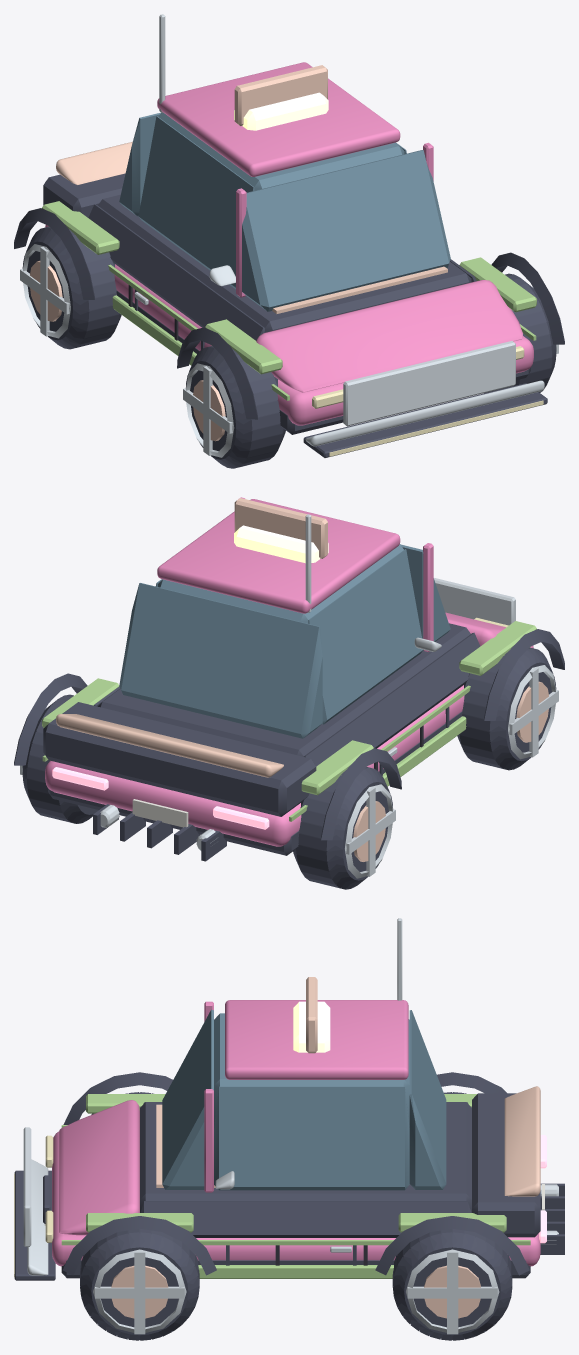
Rendered from neon_delivery.fbx.
3 renders of one model, top to bottom at view 1: azimuth 30°, elevation 25°; view 2: azimuth 150°, elevation 25°; view 3: azimuth 270°, elevation 25°, orthographic. The views are drawn at different scales.
Visible parts, largest first — view 1: Glass, Body, Trim, Metal, Accent, Wheel_FR, Wheel_RR, Accent2, Accent3, Light4, Wheel_FL, Light3 (+2 smaller); view 2: Glass, Trim, Body, Metal, Accent, Wheel_RR, Wheel_FR, Accent3, Wheel_RL, Light4, Light3, Metal2 (+3 smaller); view 3: Trim, Glass, Body, Metal, Accent, Wheel_RL, Wheel_FL, Accent3, Metal2, Accent2, Light3, Light4 (+1 smaller).
Boxes of the visible parts, left/top/right/bottom form: Glass: left=119, top=112, right=450, bottom=311; Body: left=45, top=62, right=533, bottom=425; Trim: left=14, top=173, right=564, bottom=457; Metal: left=20, top=244, right=558, bottom=457; Accent: left=42, top=201, right=536, bottom=400; Wheel_FR: left=186, top=346, right=285, bottom=468; Wheel_RR: left=22, top=226, right=121, bottom=349; Accent2: left=159, top=14, right=544, bottom=446; Accent3: left=56, top=142, right=447, bottom=313; Light4: left=234, top=65, right=327, bottom=125; Wheel_FL: left=484, top=273, right=556, bottom=393; Light3: left=234, top=92, right=328, bottom=130; Glass: left=119, top=544, right=450, bottom=738; Trim: left=14, top=623, right=564, bottom=861; Body: left=45, top=497, right=533, bottom=846; Metal: left=20, top=578, right=558, bottom=878; Accent: left=42, top=621, right=536, bottom=821; Wheel_RR: left=293, top=767, right=392, bottom=889; Wheel_FR: left=457, top=647, right=556, bottom=770; Accent3: left=56, top=714, right=283, bottom=777; Wheel_RL: left=22, top=694, right=98, bottom=823; Light4: left=234, top=498, right=327, bottom=558; Light3: left=234, top=525, right=328, bottom=563; Metal2: left=353, top=681, right=548, bottom=861; Trim: left=14, top=1072, right=564, bottom=1280; Glass: left=162, top=1009, right=446, bottom=1190; Body: left=52, top=1000, right=540, bottom=1266; Metal: left=23, top=1127, right=558, bottom=1334; Accent: left=61, top=1094, right=530, bottom=1278; Wheel_RL: left=392, top=1228, right=512, bottom=1340; Wheel_FL: left=80, top=1228, right=199, bottom=1340; Accent3: left=156, top=1086, right=540, bottom=1196; Metal2: left=111, top=1265, right=480, bottom=1318; Accent2: left=27, top=918, right=402, bottom=1275; Light3: left=293, top=1001, right=330, bottom=1052; Light4: left=306, top=977, right=317, bottom=1053.
Bounding box in the file's own units: 3.51 × 3.37 × 5.3.
